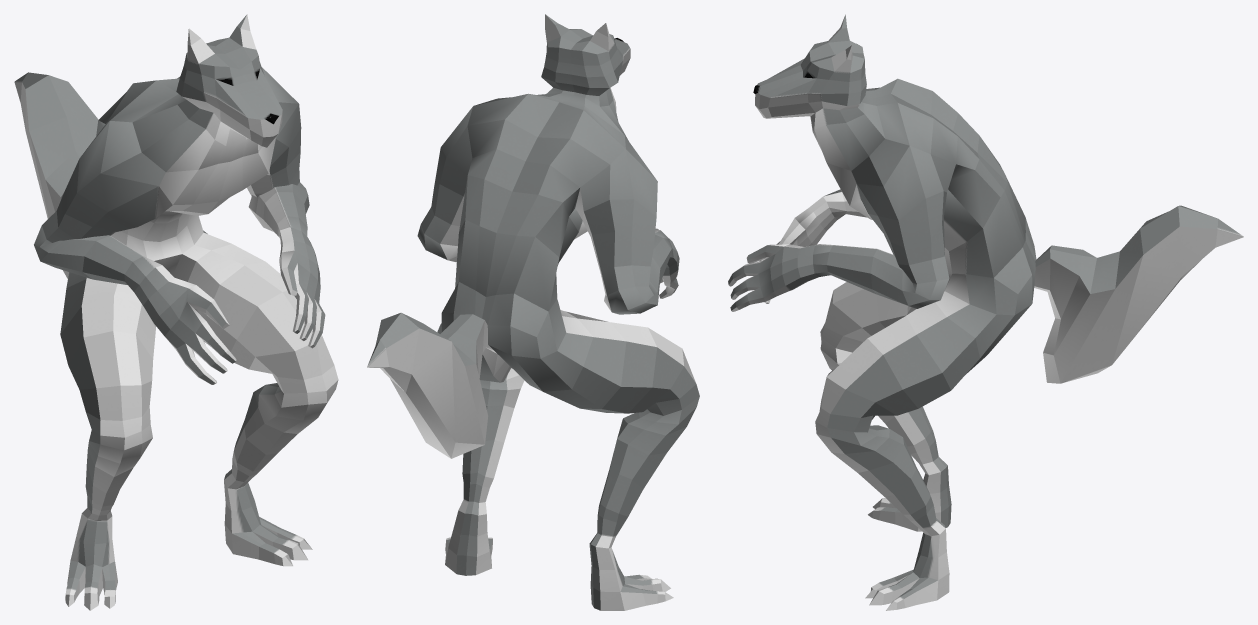
File: WolfIdle_(126).obj
The picture shows the model from 3 angles, left to right: view 1: azimuth 30°, elevation 25°; view 2: azimuth 150°, elevation 25°; view 3: azimuth 270°, elevation 25°; orthographic projection. The views are drawn at different scales.
Visible parts, largest first — view 1: Box001; view 2: Box001; view 3: Box001.
Part boxes in pixels (x1=…): Box001: x1=14, y1=14, x2=338, y2=610; Box001: x1=367, y1=14, x2=699, y2=610; Box001: x1=728, y1=14, x2=1243, y2=610.
Bounding box in the file's own units: 61.48 × 131 × 115.
